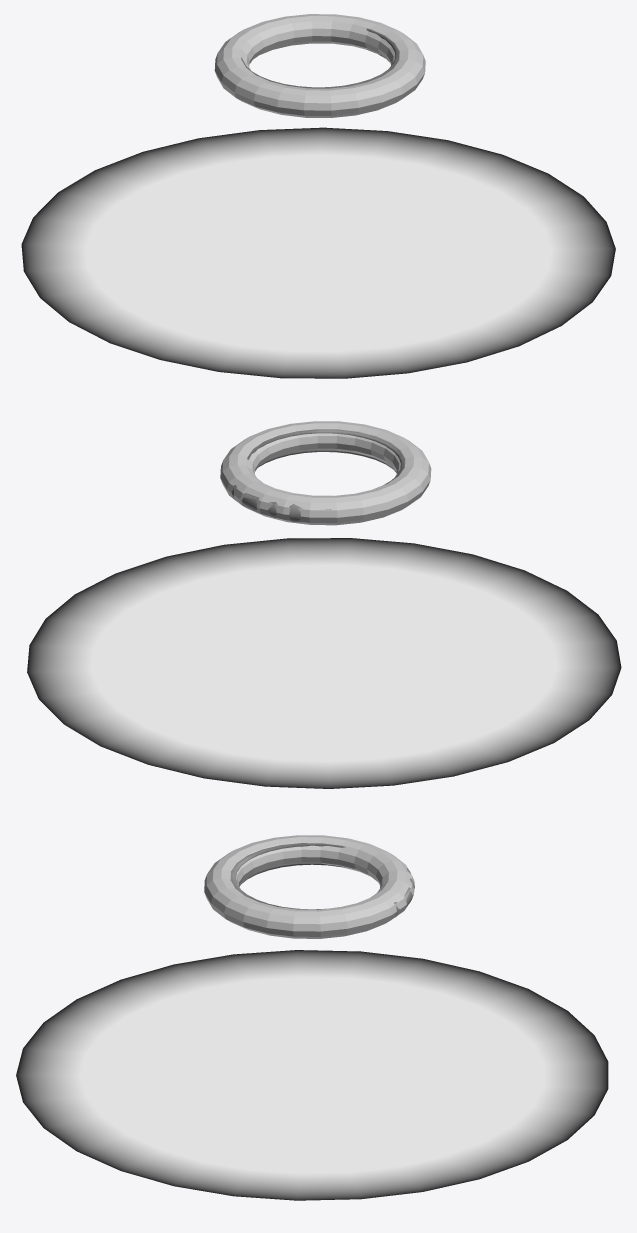
Rendered from pref_TPC_v2_NeutralScoreArea03_winter_orange_frozen_lv3.fbx.
3 renders of one model, top to bottom at view 1: azimuth 30°, elevation 25°; view 2: azimuth 150°, elevation 25°; view 3: azimuth 270°, elevation 25°, orthographic.
Parts seen in each view (by area): view 1: dm_ice_1, ring, sm_prop_platform06b_lv3; view 2: dm_ice_1, ring, sm_prop_platform06b_lv3; view 3: dm_ice_1, ring, sm_prop_platform06b_lv3.
Part boxes in pixels (x1,y1,x2,y2): dm_ice_1: [21, 127, 615, 378]; ring: [214, 14, 425, 117]; sm_prop_platform06b_lv3: [241, 28, 399, 88]; dm_ice_1: [27, 538, 621, 788]; ring: [220, 421, 431, 525]; sm_prop_platform06b_lv3: [231, 429, 404, 522]; dm_ice_1: [16, 950, 608, 1200]; ring: [204, 835, 414, 938]; sm_prop_platform06b_lv3: [230, 843, 414, 917].
Size of the model in its own units: 7.46 by 2.9 by 7.46.
